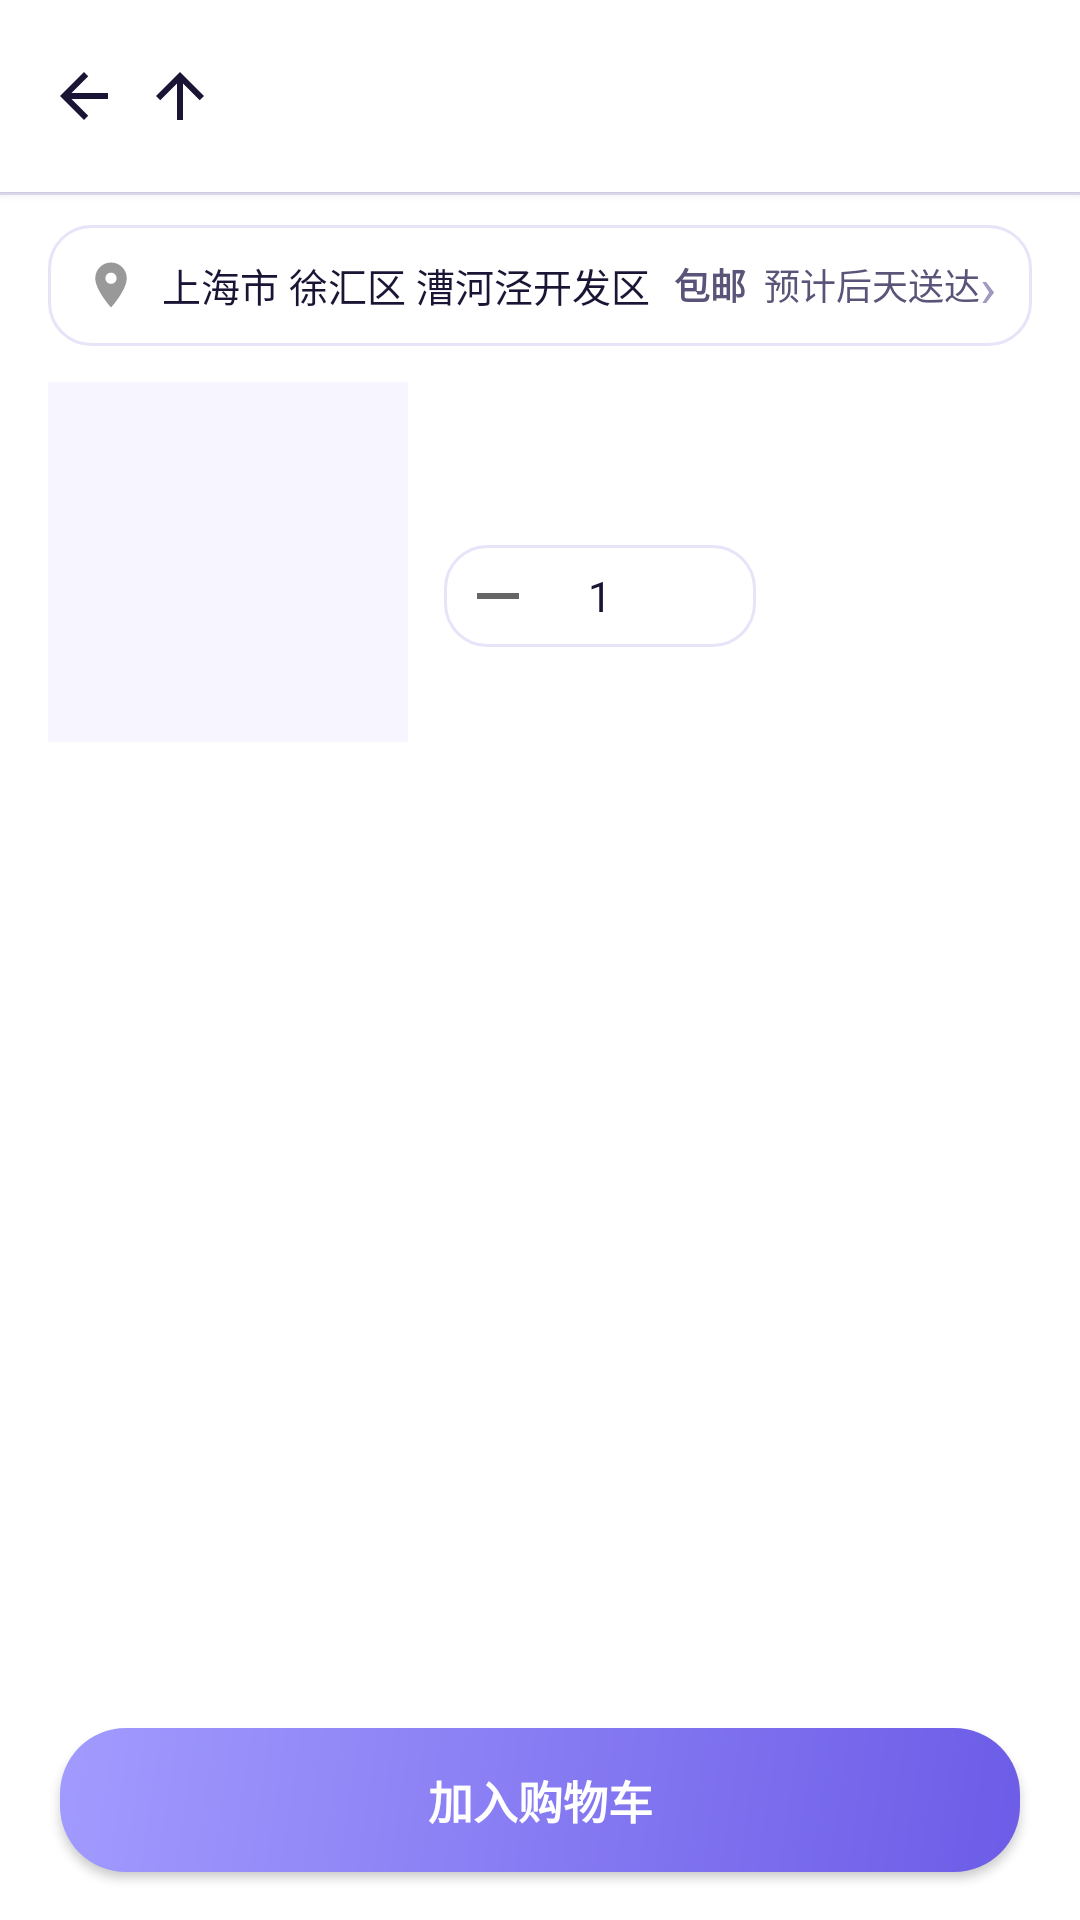

Icons on this 1080 x 1920 Android screen, each with the point to tap as (x,y):
location: (111,284)
返回: (84,96)
